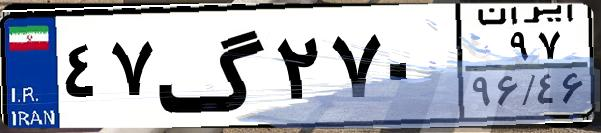0: (385, 28, 445, 110)
2: (270, 28, 330, 110)
4: (57, 26, 110, 100), (535, 70, 560, 125)
6: (560, 70, 590, 125), (495, 70, 520, 125)
7: (330, 28, 385, 110), (110, 28, 156, 98), (537, 27, 568, 80)
9: (508, 27, 537, 80), (470, 70, 495, 125)
گ: (156, 12, 270, 120)
